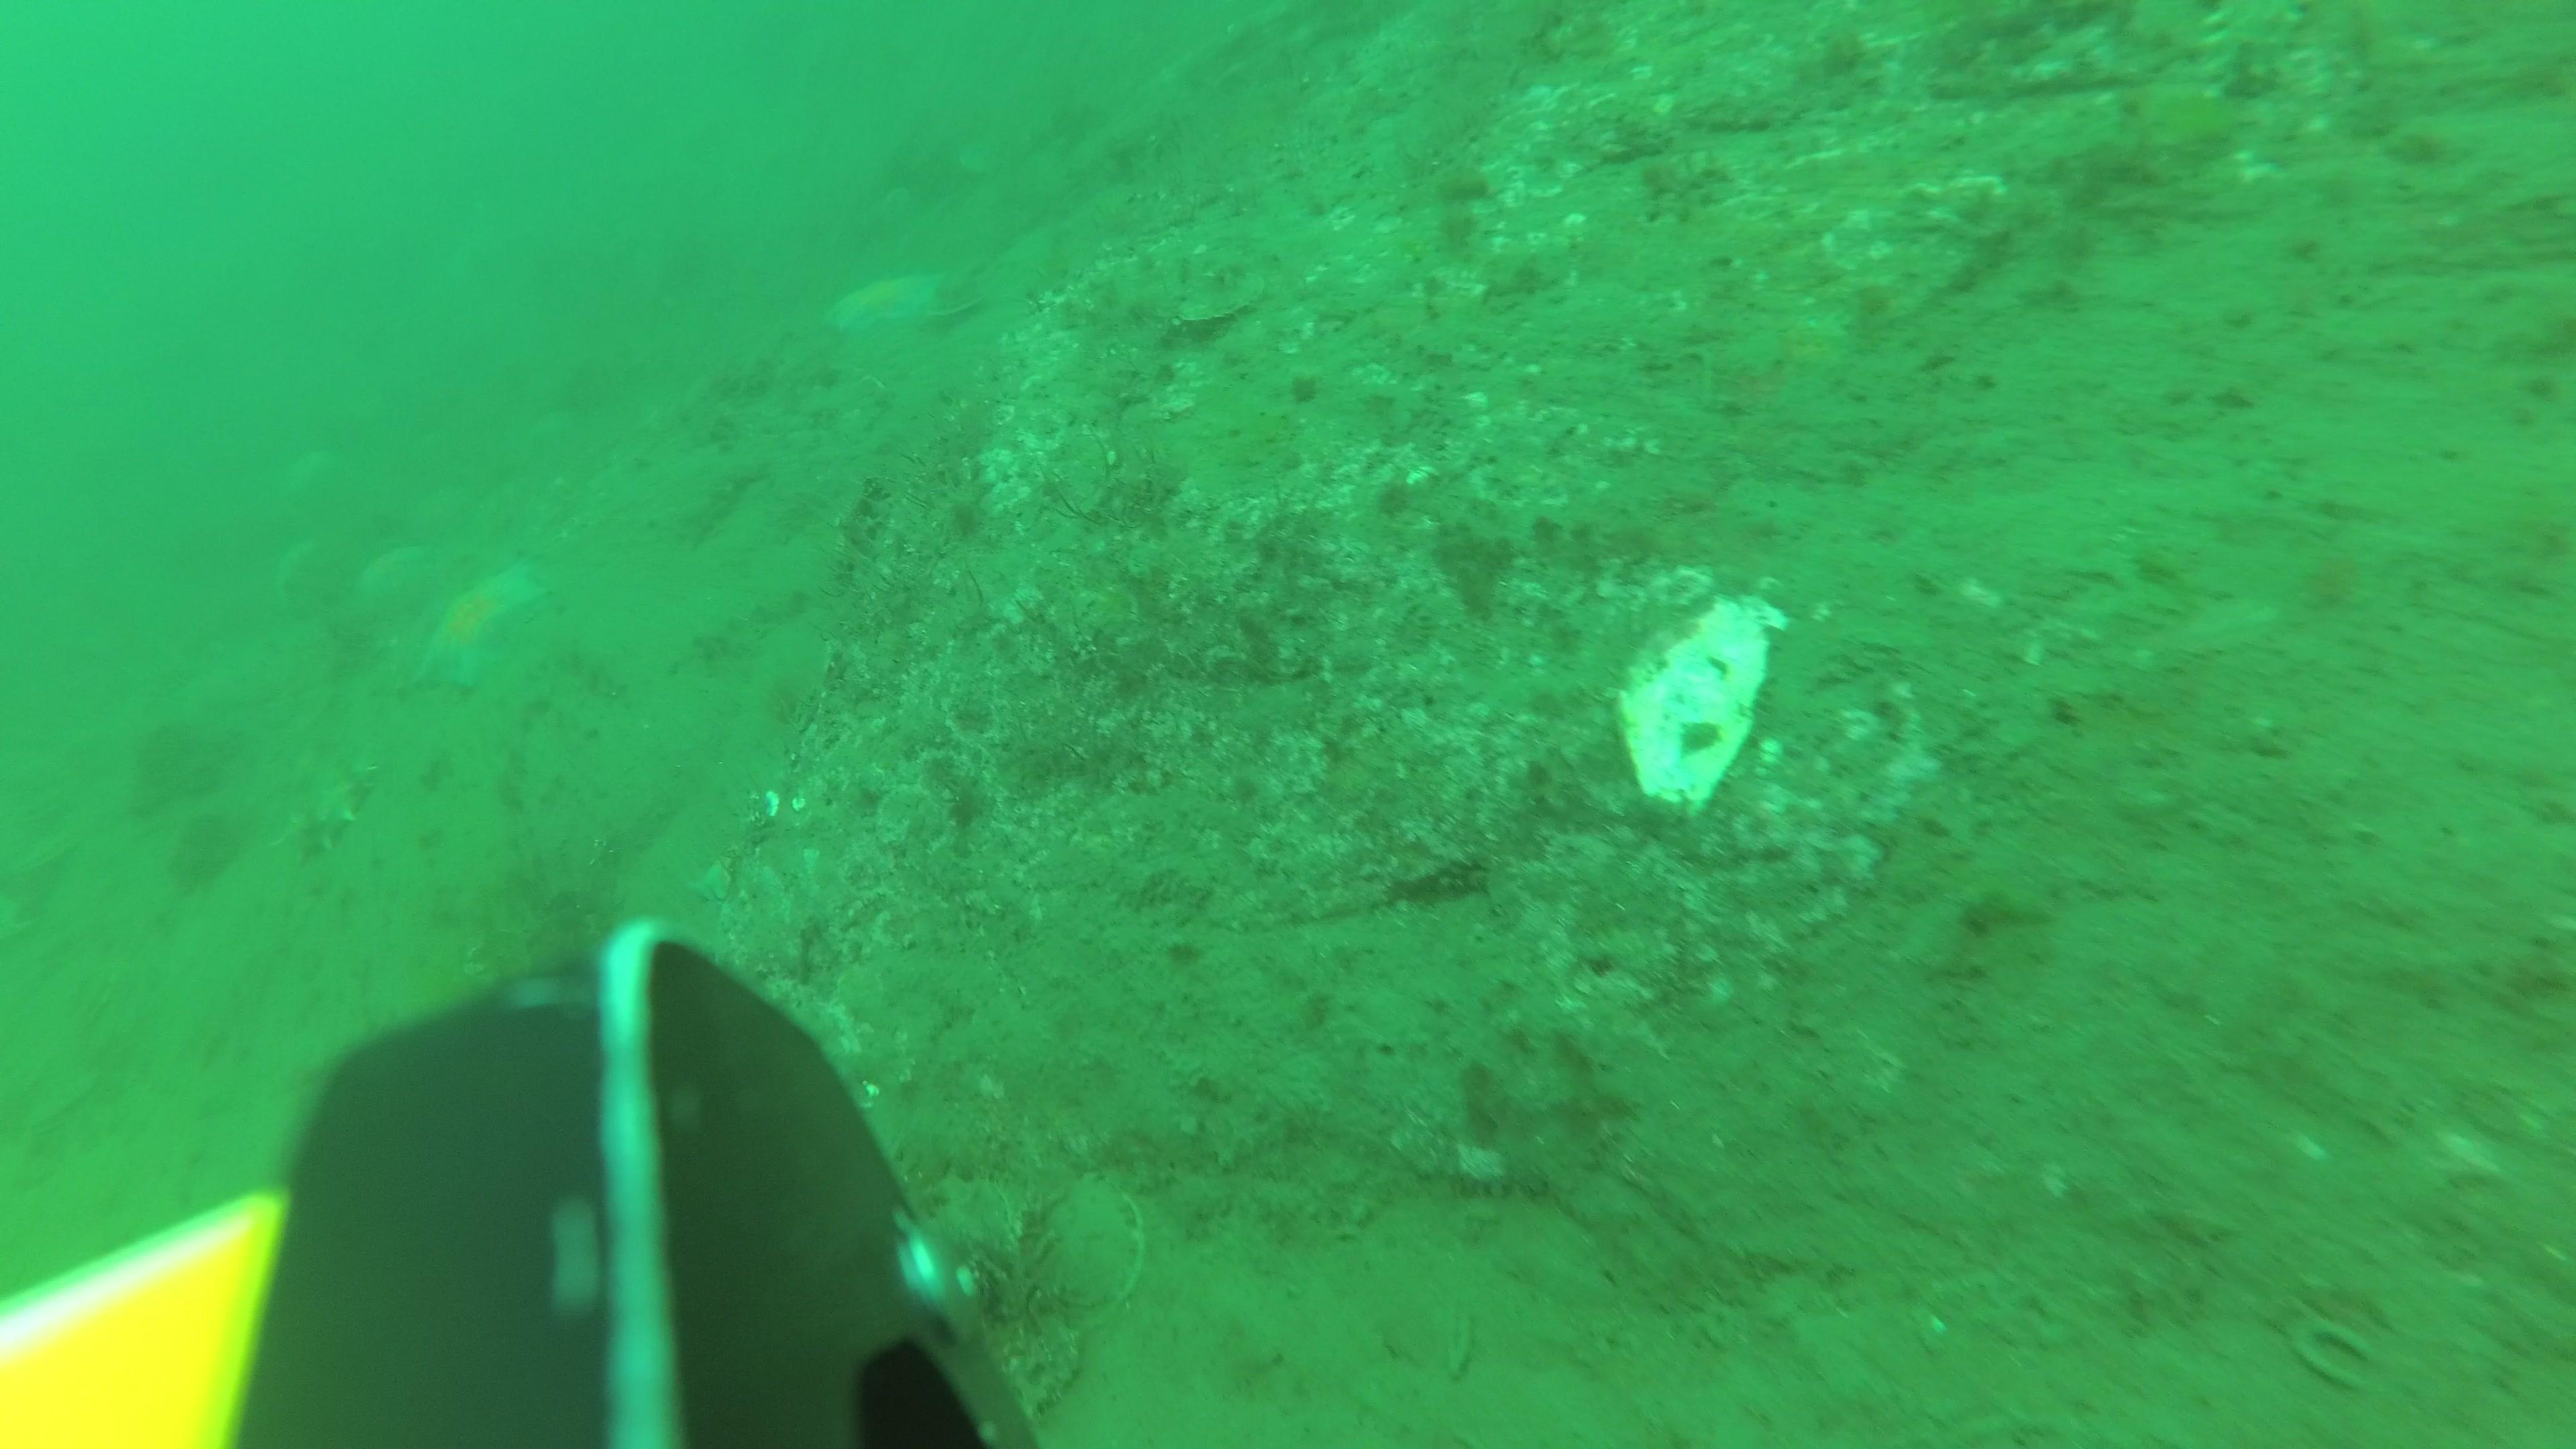holothurian: (288, 757, 384, 863)
starfish: (412, 561, 550, 694), (824, 267, 943, 338), (352, 543, 425, 605)
